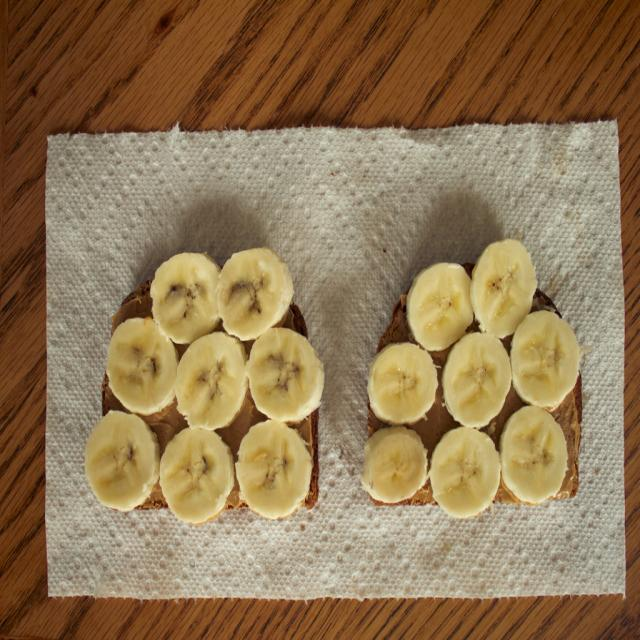Banana: (83, 247, 323, 521), (363, 240, 582, 521), (146, 415, 231, 529)
